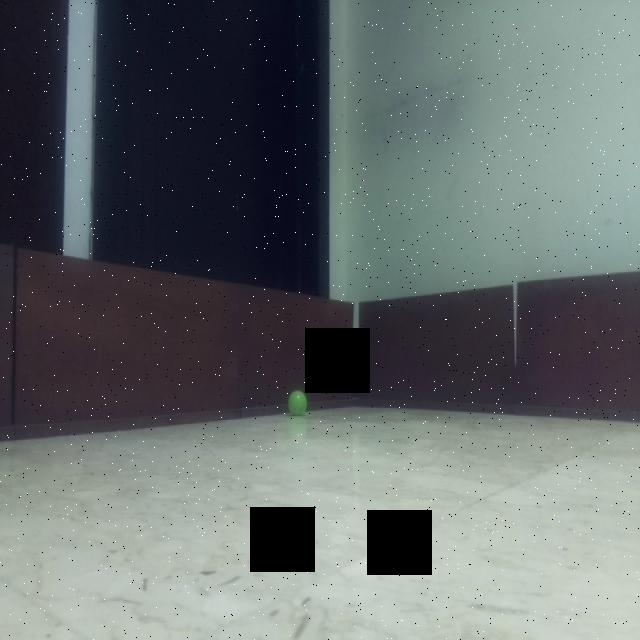ball: (282, 386, 314, 418)
